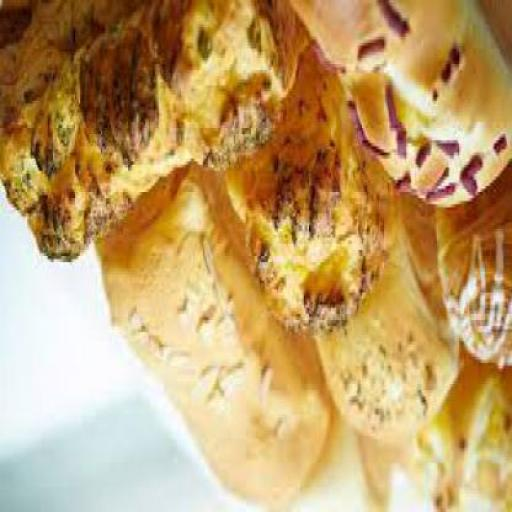biodegradable: (95, 161, 338, 511), (0, 2, 298, 272), (220, 46, 396, 338), (287, 2, 511, 216), (313, 201, 460, 445), (432, 167, 510, 372), (416, 347, 511, 511), (346, 438, 440, 511)
